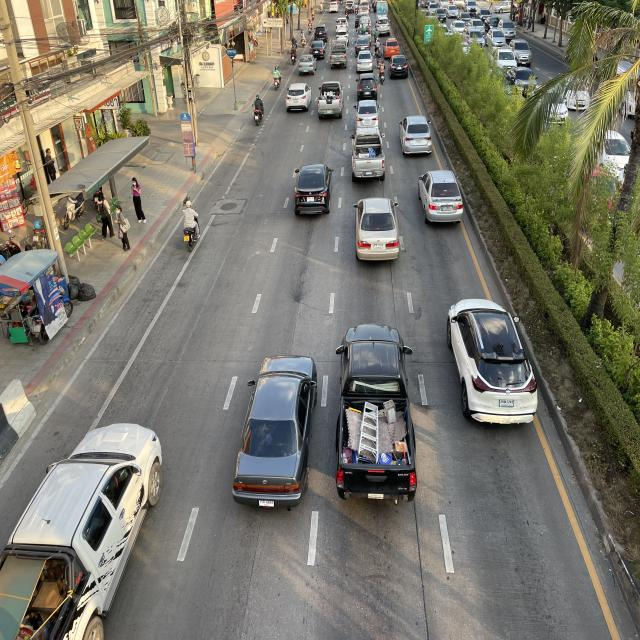bike: (181, 194, 202, 255), (252, 92, 265, 127), (271, 64, 282, 93), (290, 44, 298, 66)
car: (229, 353, 319, 515), (444, 295, 540, 428), (352, 193, 402, 263), (417, 168, 464, 226), (292, 161, 336, 218), (348, 128, 386, 182), (398, 113, 435, 158), (317, 80, 345, 120), (352, 99, 382, 134), (286, 82, 312, 113), (355, 72, 379, 101)
truck: (0, 417, 164, 640), (333, 320, 417, 503)
